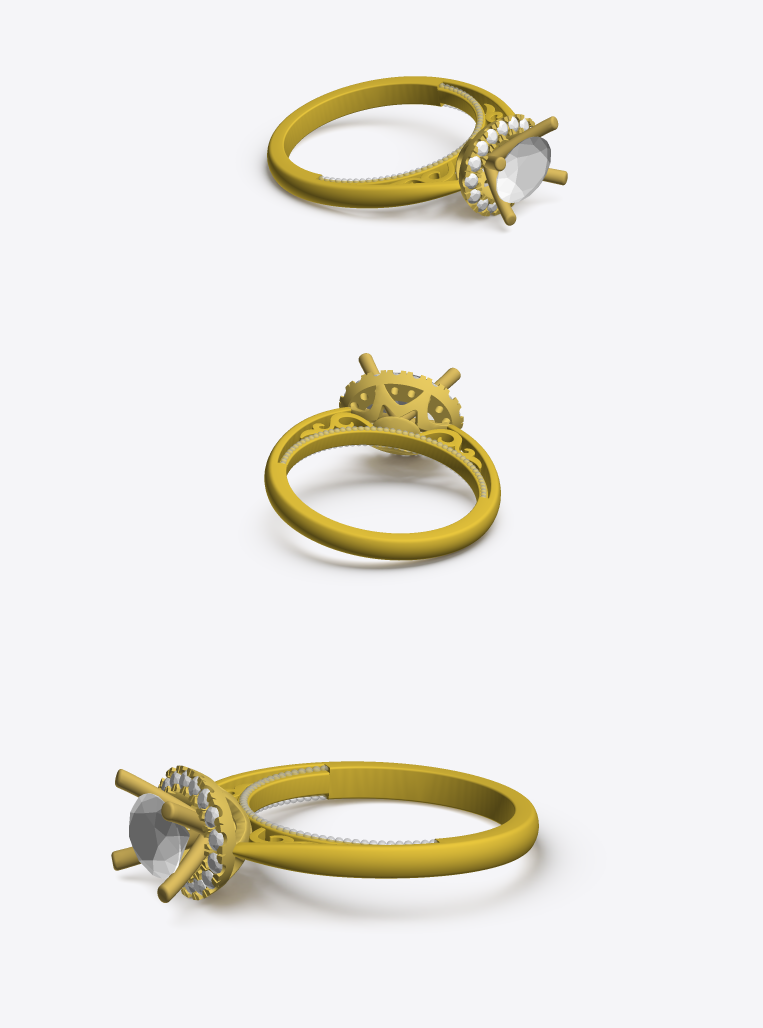
Rendered from ring_ver3.glb.
3 views of the same model, one above another, from view 1: azimuth 30°, elevation 25°; view 2: azimuth 150°, elevation 25°; view 3: azimuth 270°, elevation 25° (orthographic). The views are drawn at different scales.
Parts seen in each view (by area): view 1: gold_buttom, Plane_alpha, gem_top, gold_mid, gold_top, gem_mid, gem_buttom; view 2: gold_buttom, Plane_alpha, gold_mid, gem_buttom, gold_top; view 3: gold_buttom, Plane_alpha, gold_mid, gold_top, gem_top, gem_buttom, gem_mid.
Part boxes in pixels (bbox=[...]): gold_buttom: bbox=[267, 76, 515, 208]; Plane_alpha: bbox=[252, 113, 553, 233]; gem_top: bbox=[496, 136, 550, 202]; gold_mid: bbox=[455, 114, 534, 216]; gold_top: bbox=[483, 116, 567, 225]; gem_mid: bbox=[464, 116, 531, 213]; gem_buttom: bbox=[319, 83, 483, 182]; gold_buttom: bbox=[264, 407, 500, 560]; Plane_alpha: bbox=[257, 445, 504, 576]; gold_mid: bbox=[339, 370, 463, 455]; gem_buttom: bbox=[280, 426, 486, 497]; gold_top: bbox=[358, 353, 460, 432]; gold_buttom: bbox=[191, 761, 538, 878]; Plane_alpha: bbox=[118, 796, 572, 926]; gold_mid: bbox=[158, 765, 252, 900]; gold_top: bbox=[111, 769, 208, 902]; gem_top: bbox=[129, 793, 189, 878]; gem_buttom: bbox=[239, 765, 437, 844]; gem_mid: bbox=[161, 770, 223, 895].
Bounding box in the file's own units: 50.36 × 9.01 × 50.36.
Materials: 7 (1 with a texture image).
